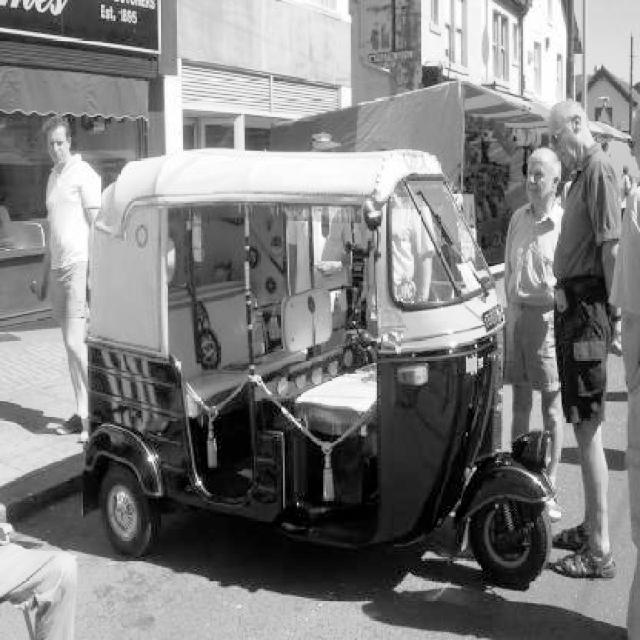Auto-Rickshaw: (85, 157, 556, 601)
